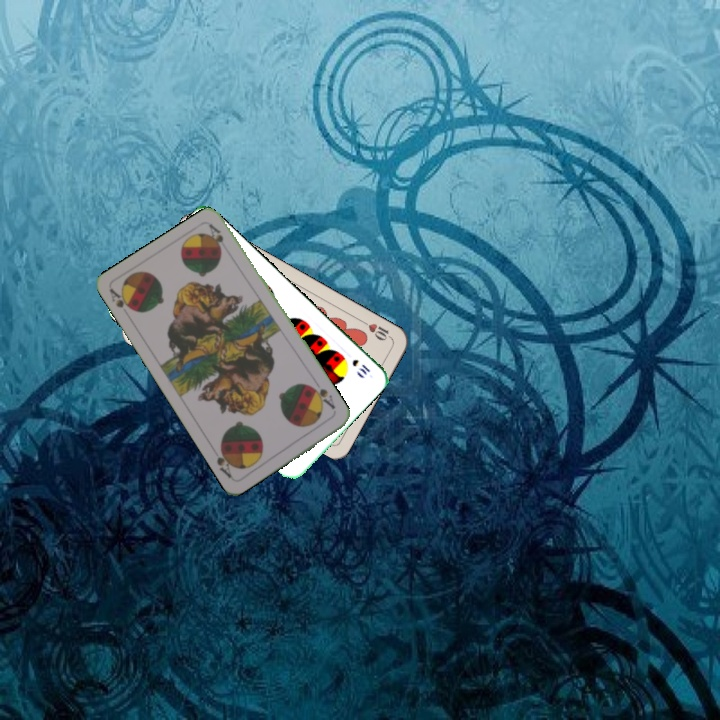H10: (357, 316, 394, 343)
S10: (348, 355, 373, 377)
SA: (306, 382, 338, 412), (106, 285, 137, 314)
